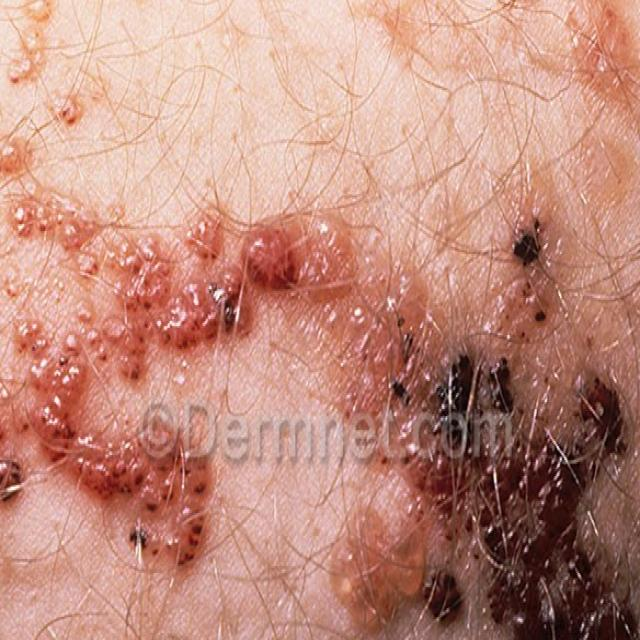Vascular Tumors: (303, 5, 640, 639)
